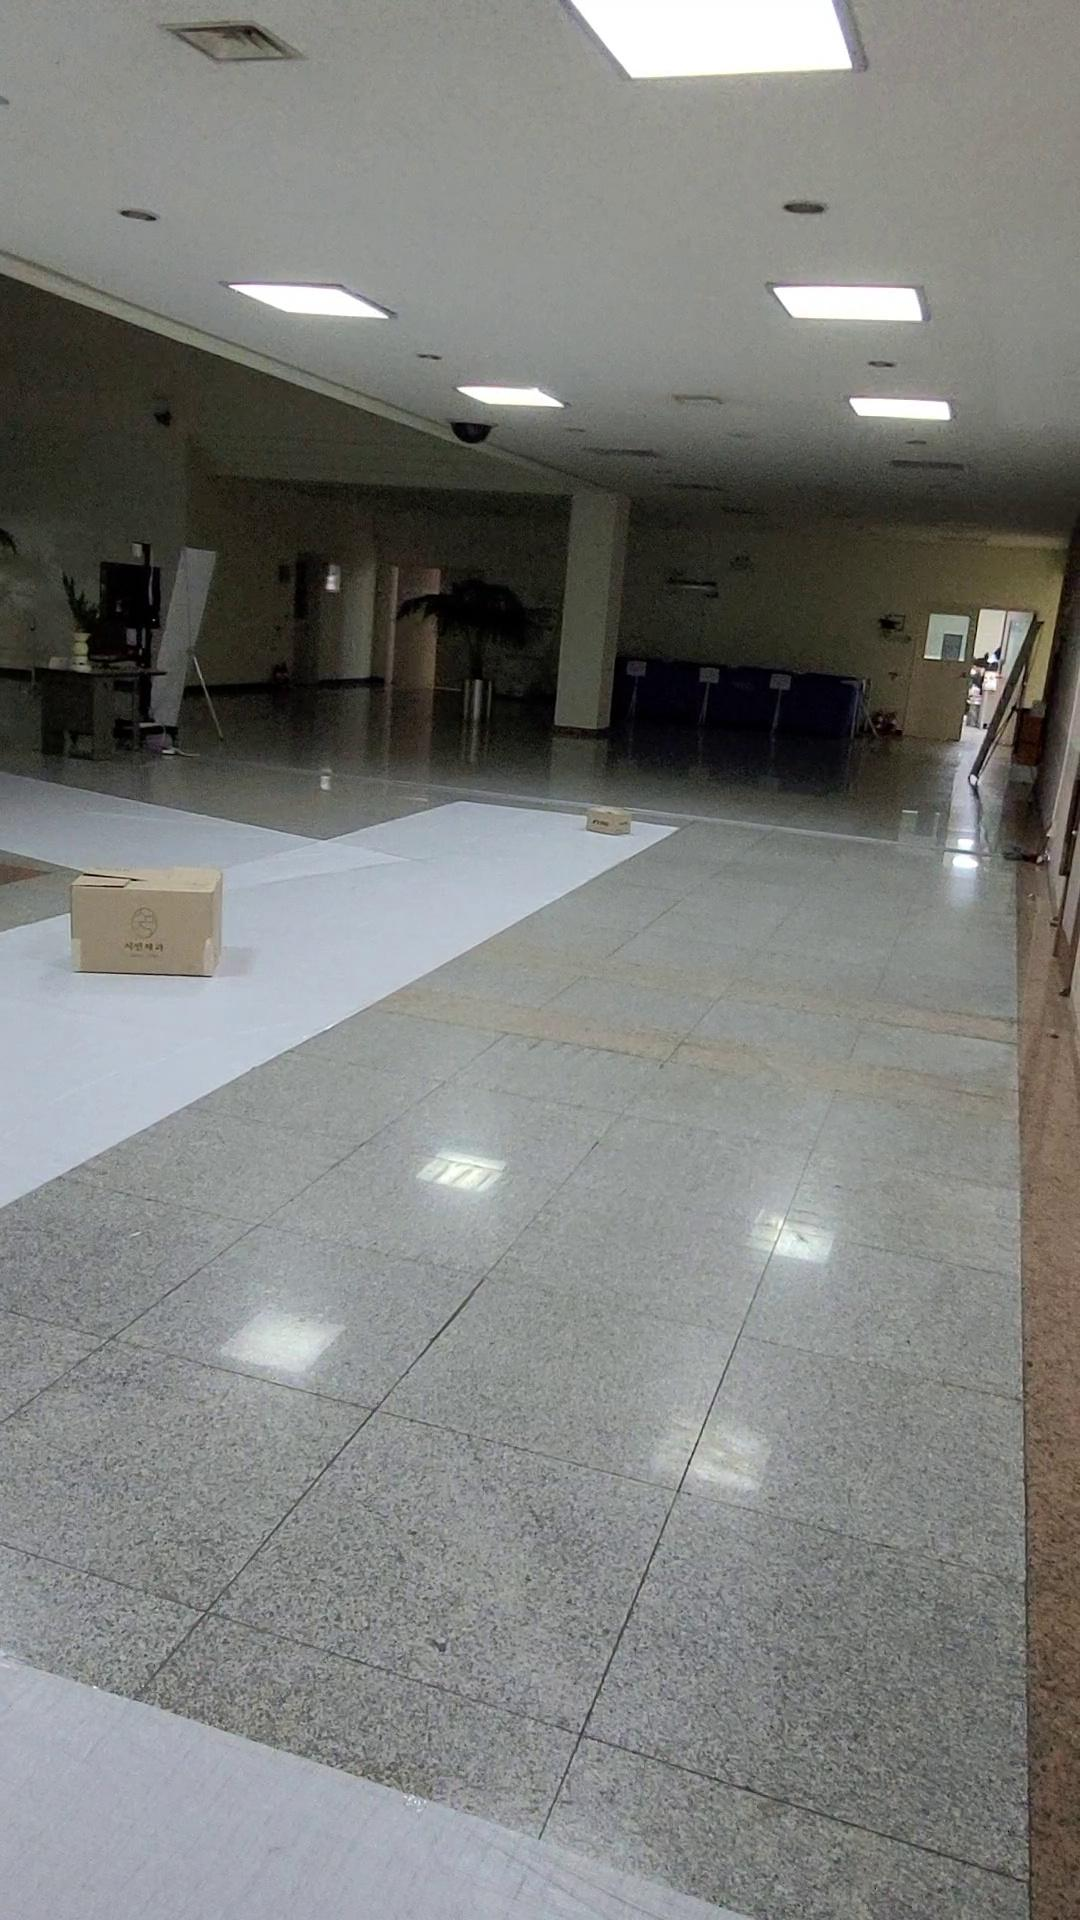Box: (36, 862, 273, 1007), (571, 783, 650, 868)
